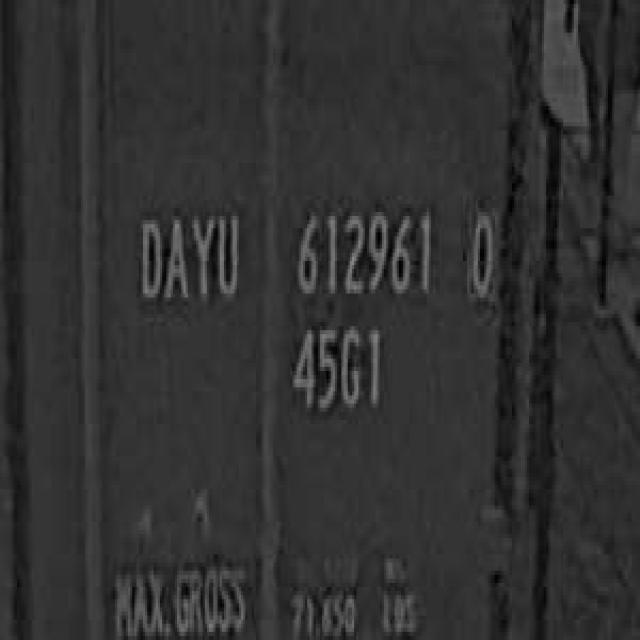dv: (463, 196, 497, 306)
owner: (134, 200, 243, 310)
serial: (290, 196, 437, 306)
size: (286, 314, 386, 424)
